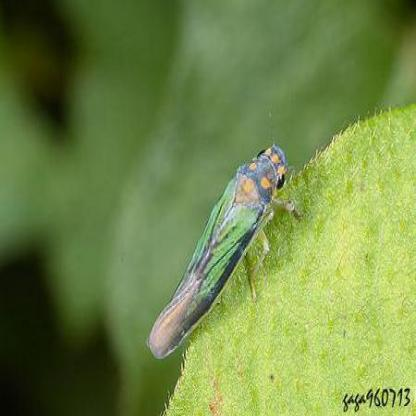green-leafhopper: (148, 142, 294, 361)
